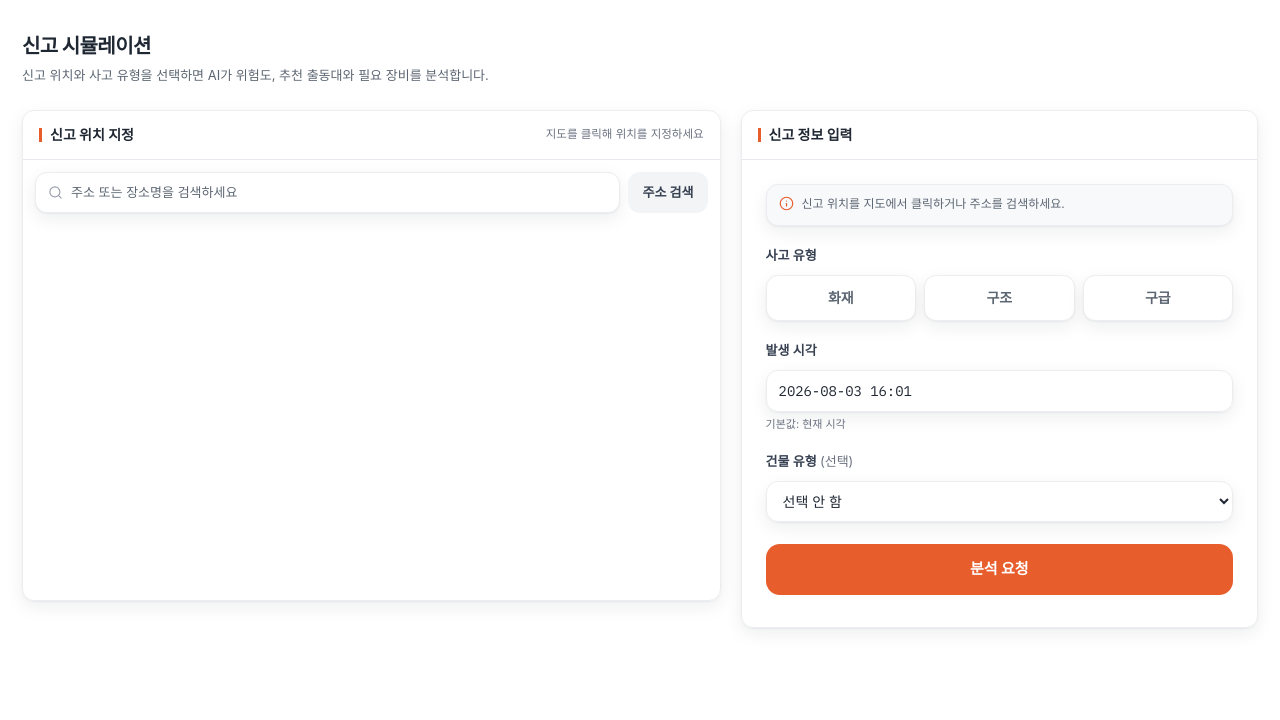
Test: AnalysisNewView › 주소와 장소 검색 결과를 선택해 신고 위치를 설정한다
The width and height of the screenshot is (1280, 720).
Type "서울시청" into the field labelled "주소 또는 장소명" at (339, 192), box [71, 182, 607, 202]
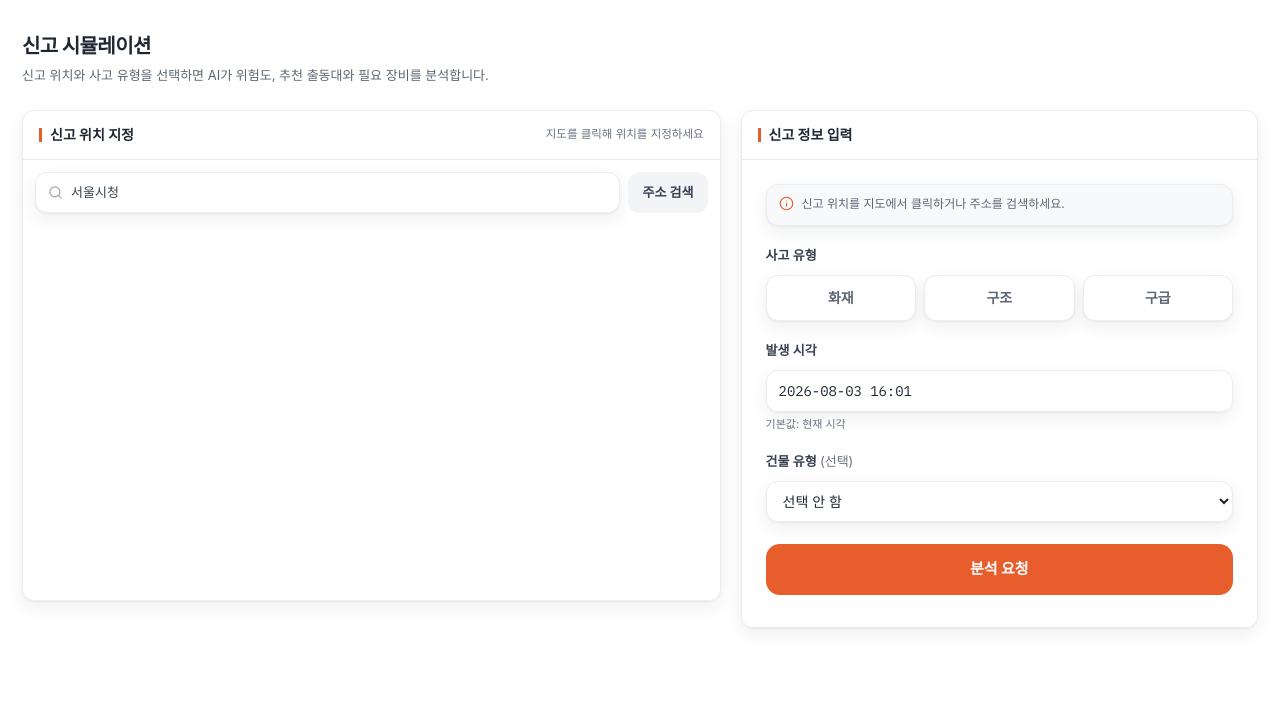
Click the button "주소 검색" at (668, 192), box [628, 172, 708, 213]
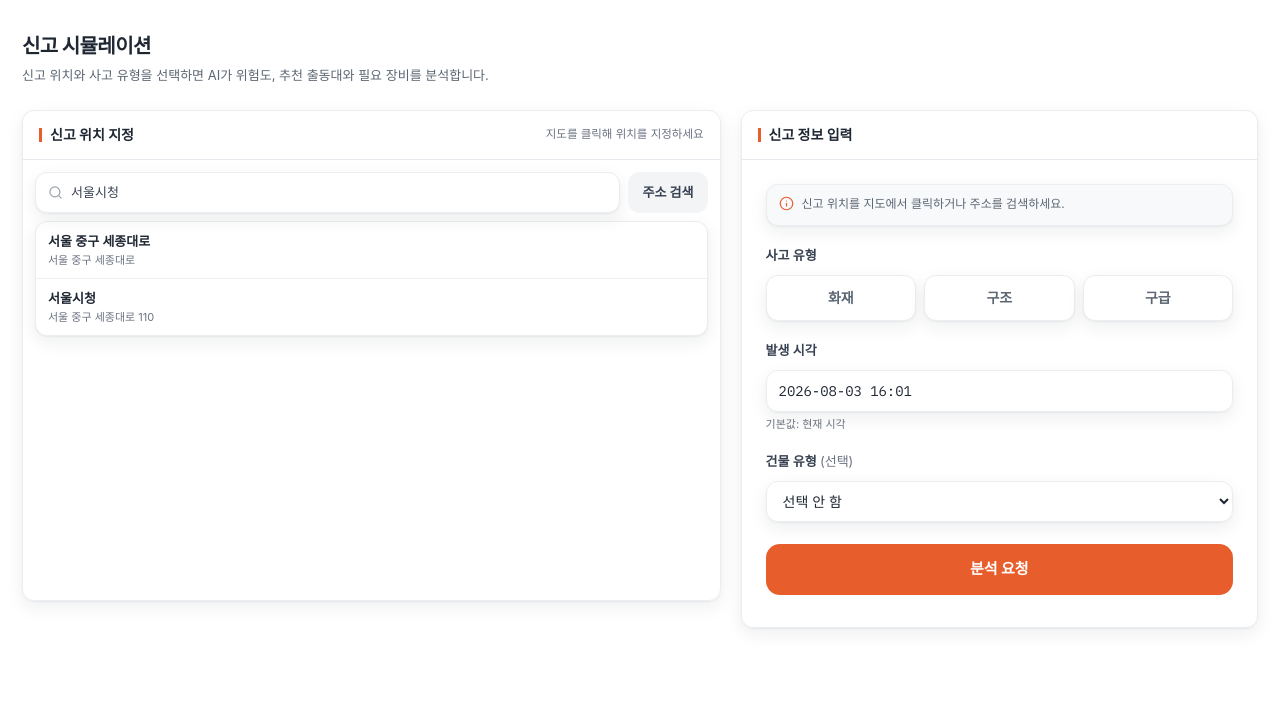
Click the button "서울시청 서울 중구 세종대로 110" at (72, 298), box [36, 279, 706, 335]
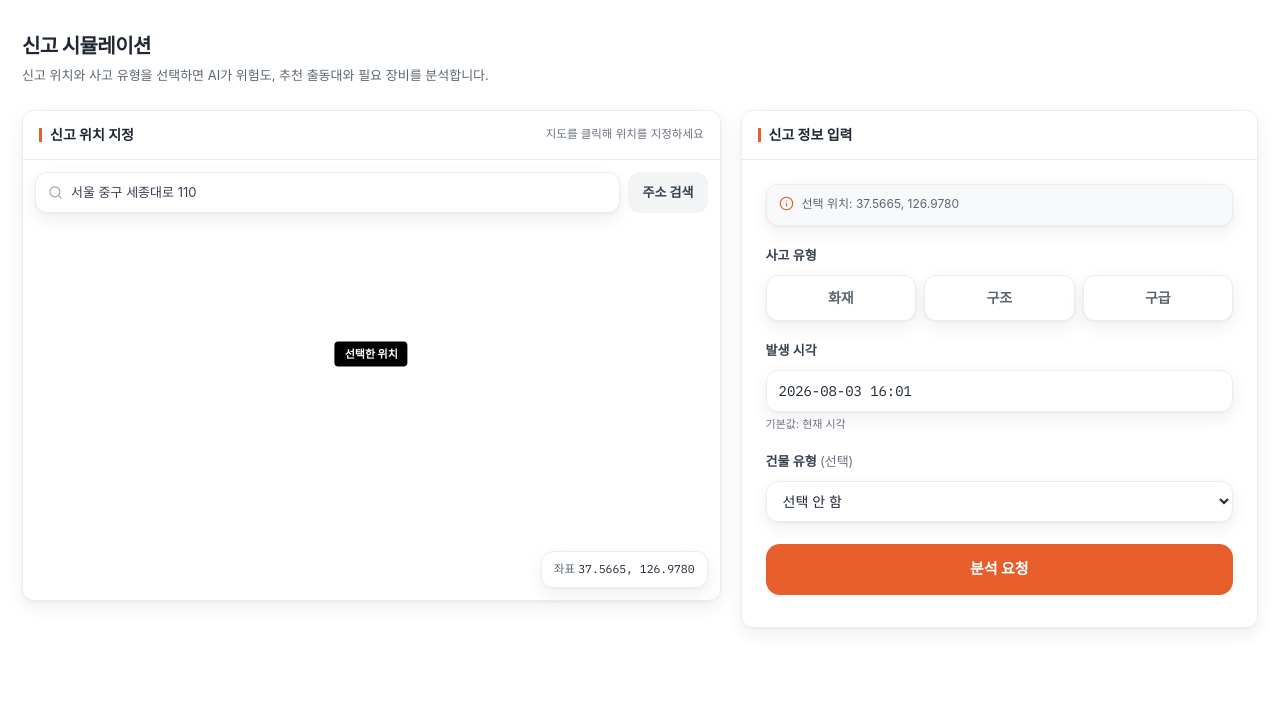
Expected: the text "37.5665, 126.9780" is shown, [578, 561, 694, 576]
